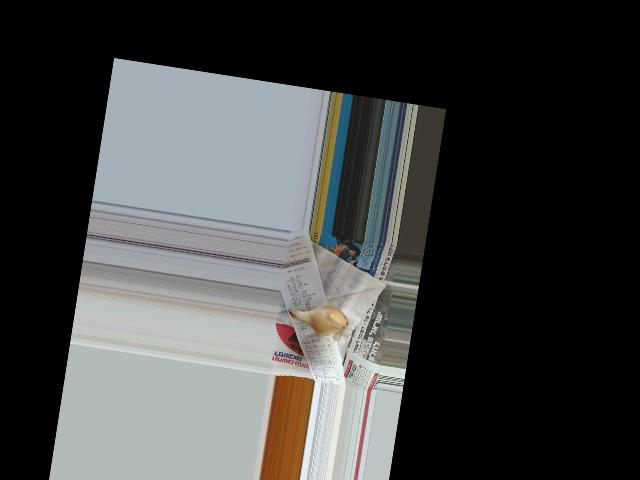onion: (300, 302, 347, 337)
